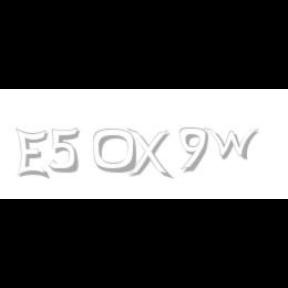5: (48, 128, 79, 174)
9: (180, 128, 208, 172)
E: (15, 128, 48, 180)
O: (92, 128, 138, 174)
X: (126, 128, 170, 180)
w: (204, 128, 264, 160)
